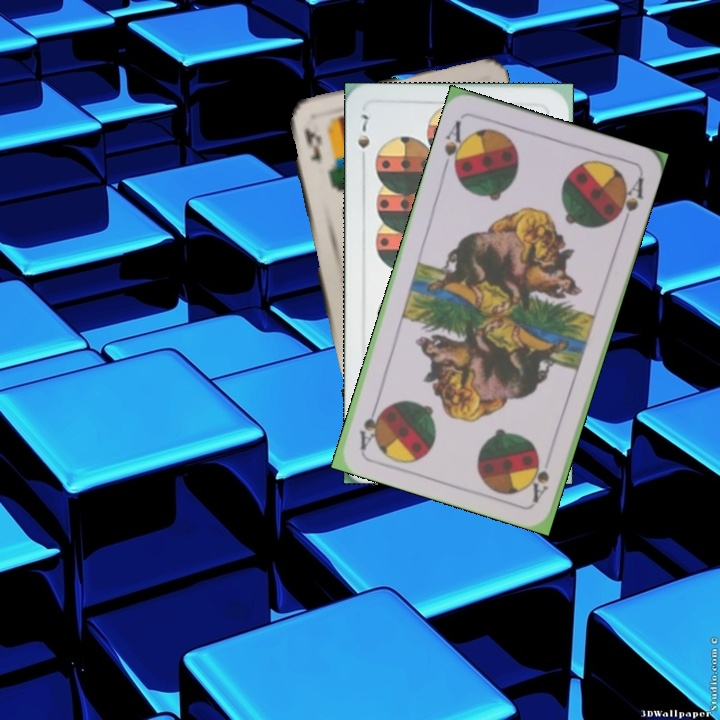EK: (300, 124, 324, 167)
S7: (353, 110, 372, 167)
SA: (439, 117, 471, 175), (528, 455, 552, 505)
